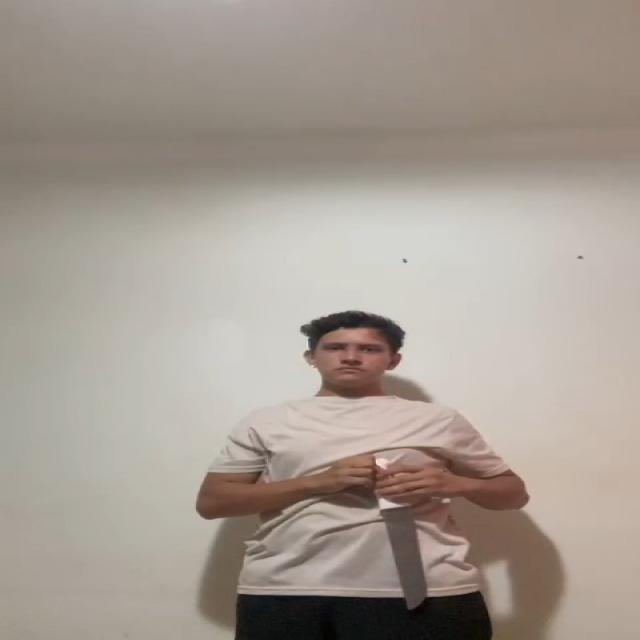knife: (388, 506, 424, 606)
